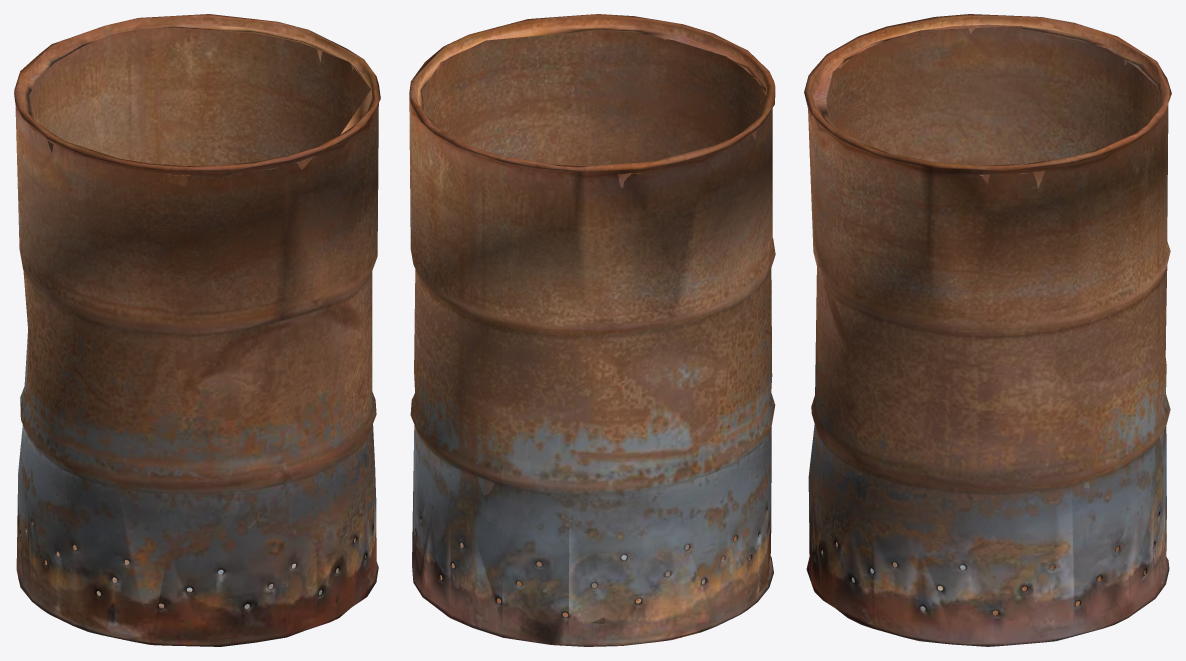
Rendered from scene-stove.glb.
The picture shows the model from 3 angles, left to right: view 1: azimuth 30°, elevation 25°; view 2: azimuth 150°, elevation 25°; view 3: azimuth 270°, elevation 25°; orthographic projection.
Visible parts, largest first — view 1: barrel_stove; view 2: barrel_stove; view 3: barrel_stove.
Part boxes in pixels (<box>): barrel_stove: <box>14,14,380,646</box>; barrel_stove: <box>409,14,775,646</box>; barrel_stove: <box>804,14,1171,646</box>.
Bounding box in the file's own units: 0.5886 × 0.8556 × 0.5926.
Materials: 1 (1 with a texture image).
